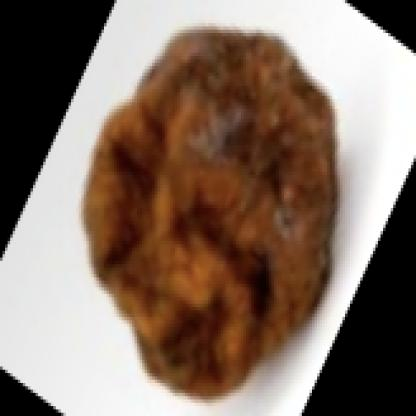rotten: (81, 26, 341, 401)
